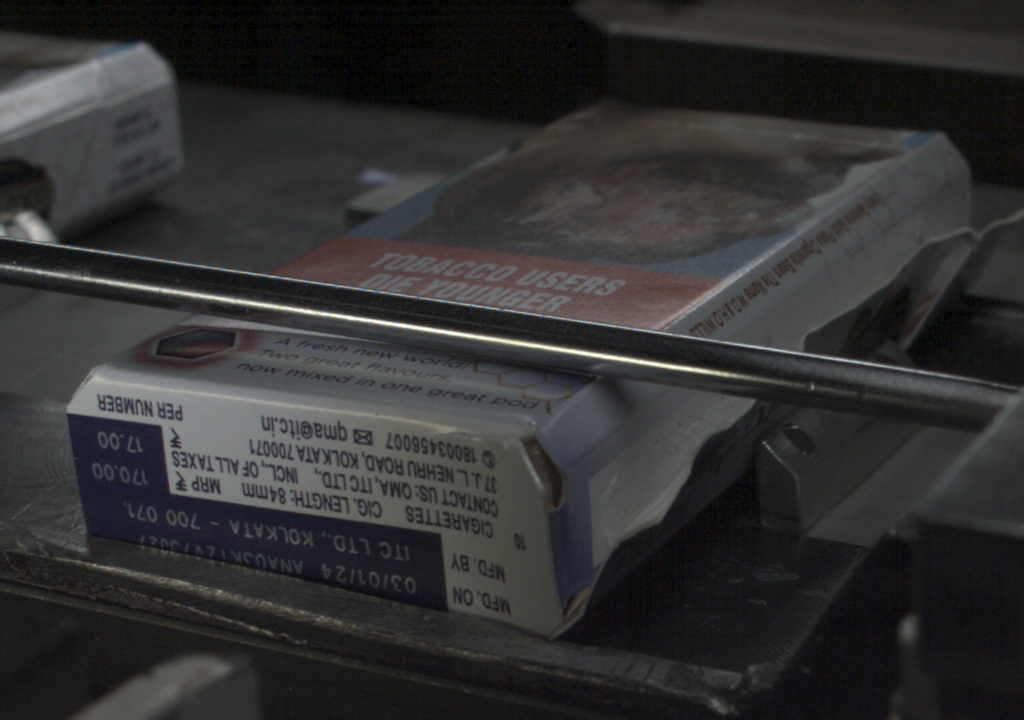g_label: (79, 492, 444, 611)
ng_bottom: (465, 430, 569, 517)
ng_lmiter: (570, 438, 667, 581), (789, 260, 875, 349), (873, 200, 950, 290), (666, 397, 737, 466)
ng_miter: (956, 142, 1022, 300)
price: (78, 420, 169, 492)
